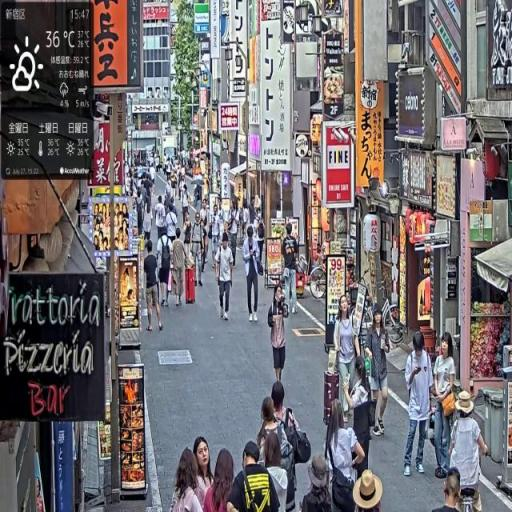person: (448, 388, 491, 512), (325, 398, 367, 512), (403, 329, 434, 480), (229, 439, 285, 512), (432, 332, 459, 481), (365, 308, 395, 439), (333, 296, 361, 424), (202, 448, 240, 512), (169, 448, 207, 512), (267, 279, 289, 388), (241, 225, 263, 324), (300, 451, 334, 512), (216, 230, 237, 324), (145, 241, 163, 331), (283, 223, 300, 317), (171, 228, 189, 309), (192, 211, 207, 291), (439, 470, 466, 512), (209, 203, 223, 272)
